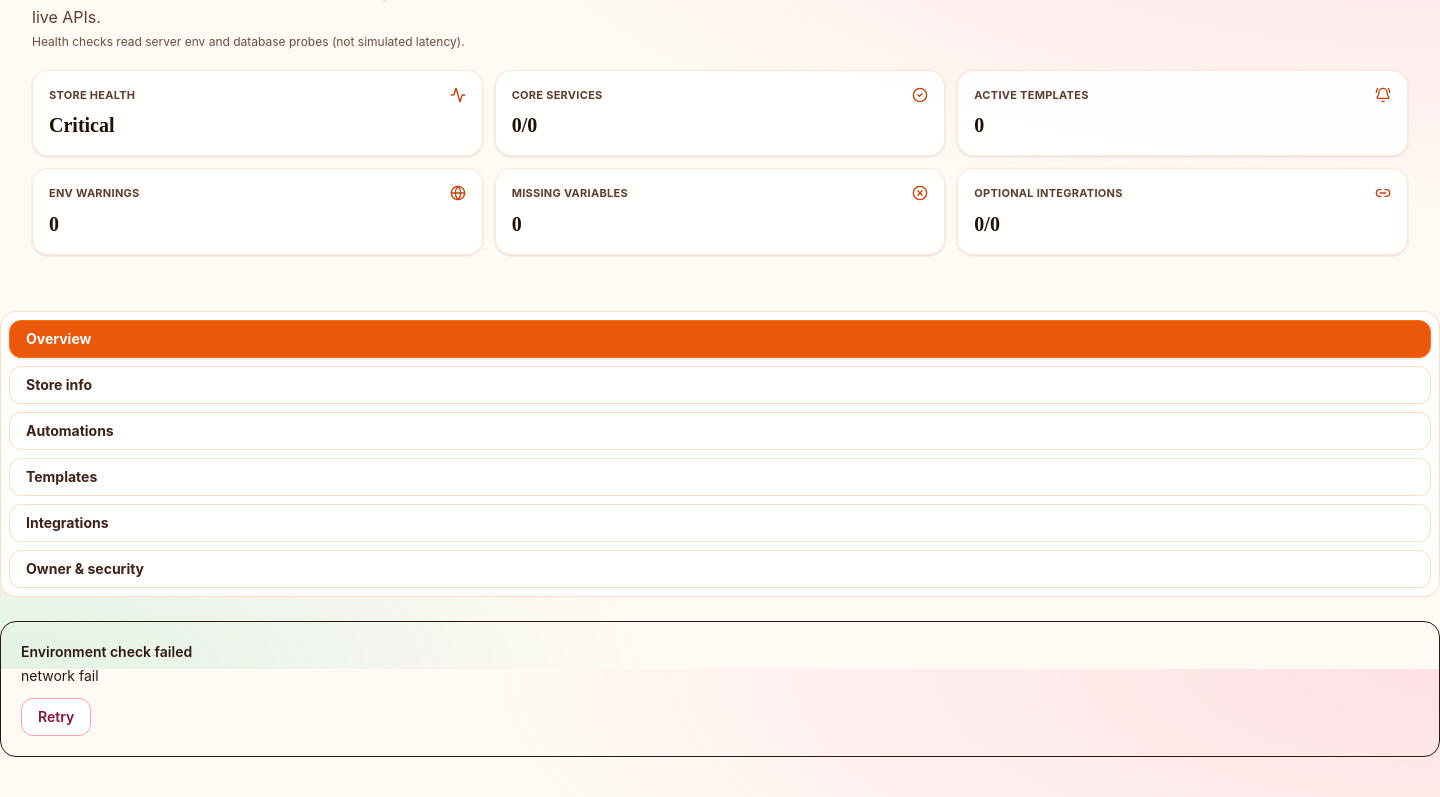
Test: AdminSettingsPage › shows error and retry button, then recovers on retry
(page scrolled)
Expected: the text "network fail" is shown, [21, 666, 98, 684]
Click the button "Retry" at (56, 716), box [21, 698, 91, 736]
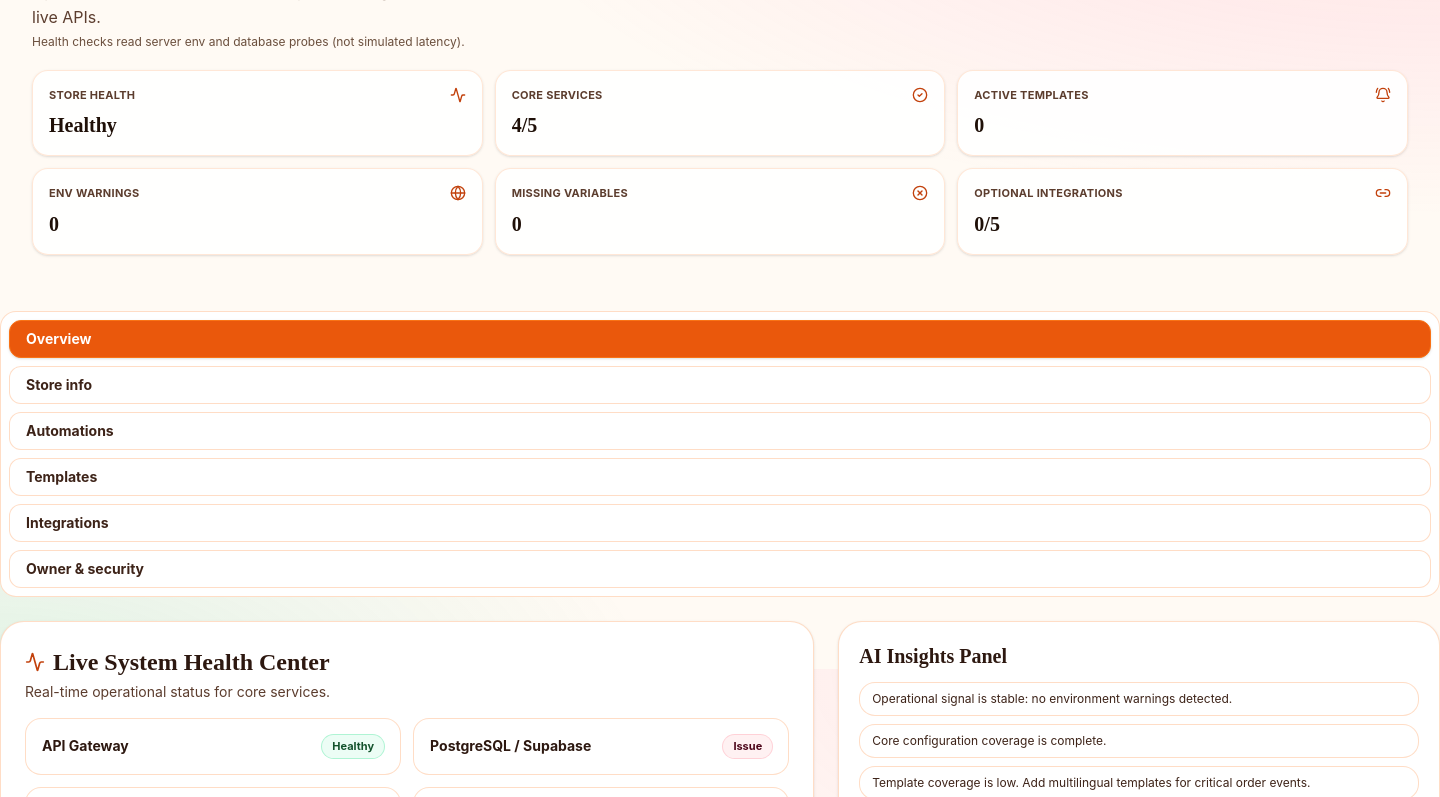
Expected: the text "network fail" is gone
